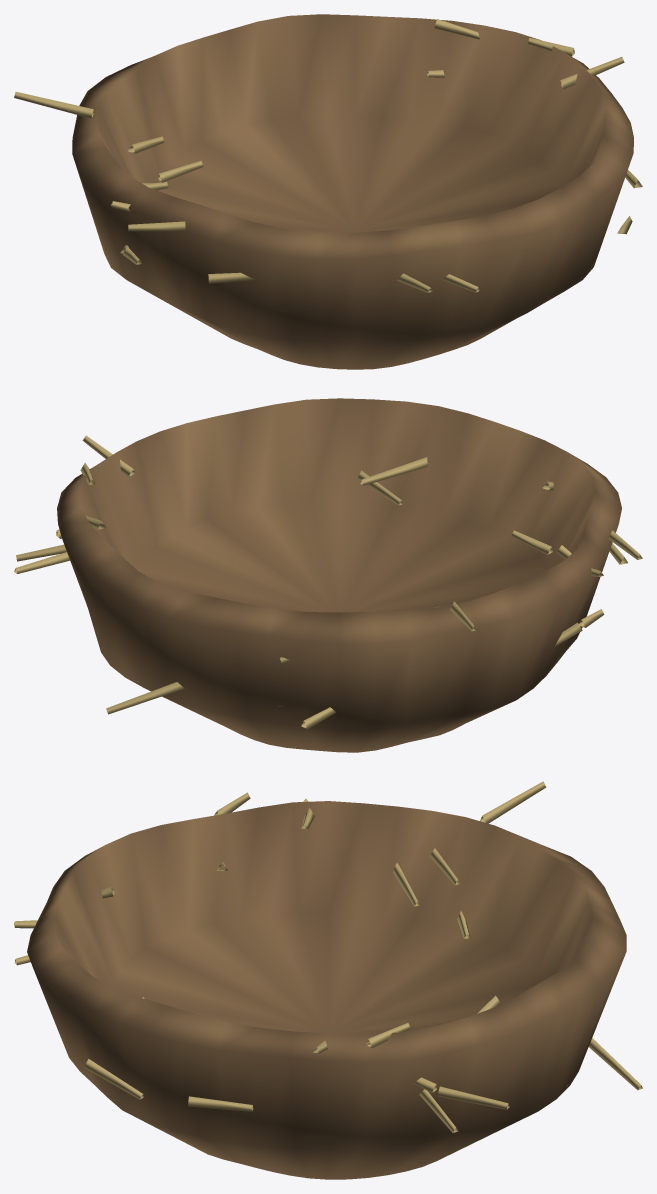
File: Hut_Nest.fbx
3 views of the same model, one above another, from view 1: azimuth 30°, elevation 25°; view 2: azimuth 150°, elevation 25°; view 3: azimuth 270°, elevation 25° (orthographic). The views are drawn at different scales.
Visible parts, largest first — view 1: Hut_Nest; view 2: Hut_Nest; view 3: Hut_Nest.
Part boxes in pixels (<box>): Hut_Nest: <box>14,14,642,369</box>; Hut_Nest: <box>14,398,642,752</box>; Hut_Nest: <box>14,781,642,1179</box>.
Bounding box in the file's own units: 13.08 × 4.7 × 12.66.
